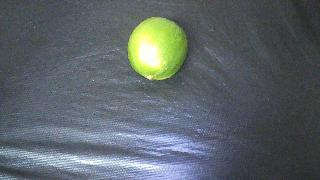LOCAL: (128, 17, 188, 80)
